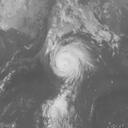cyclone: (42, 39, 90, 124)
